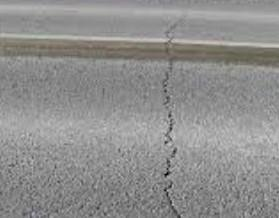crack: (157, 16, 191, 218)
